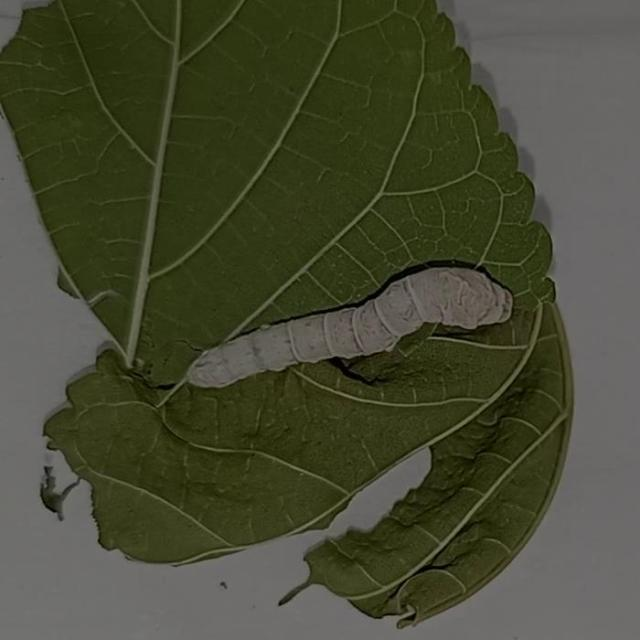Healthy: (171, 239, 567, 427)
